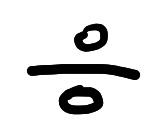div: (27, 23, 140, 115)
